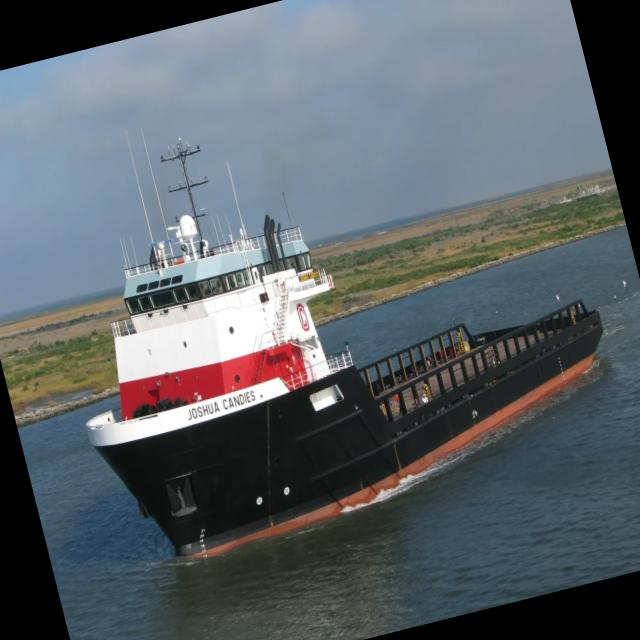Offshore: (86, 143, 602, 556)
